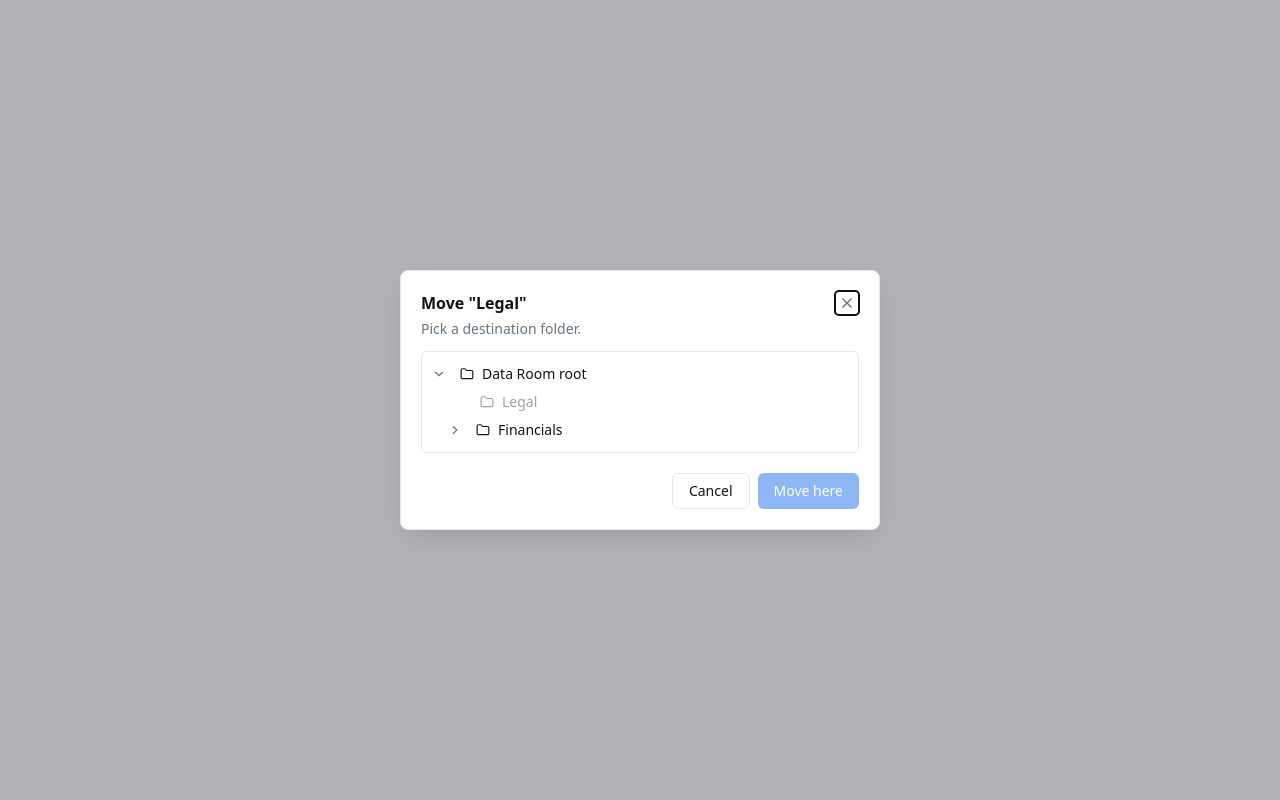
MoveDialog › reads a move cycle as a sentence, not a code
Click the button "Financials": (530, 430) [468,416,850,444]
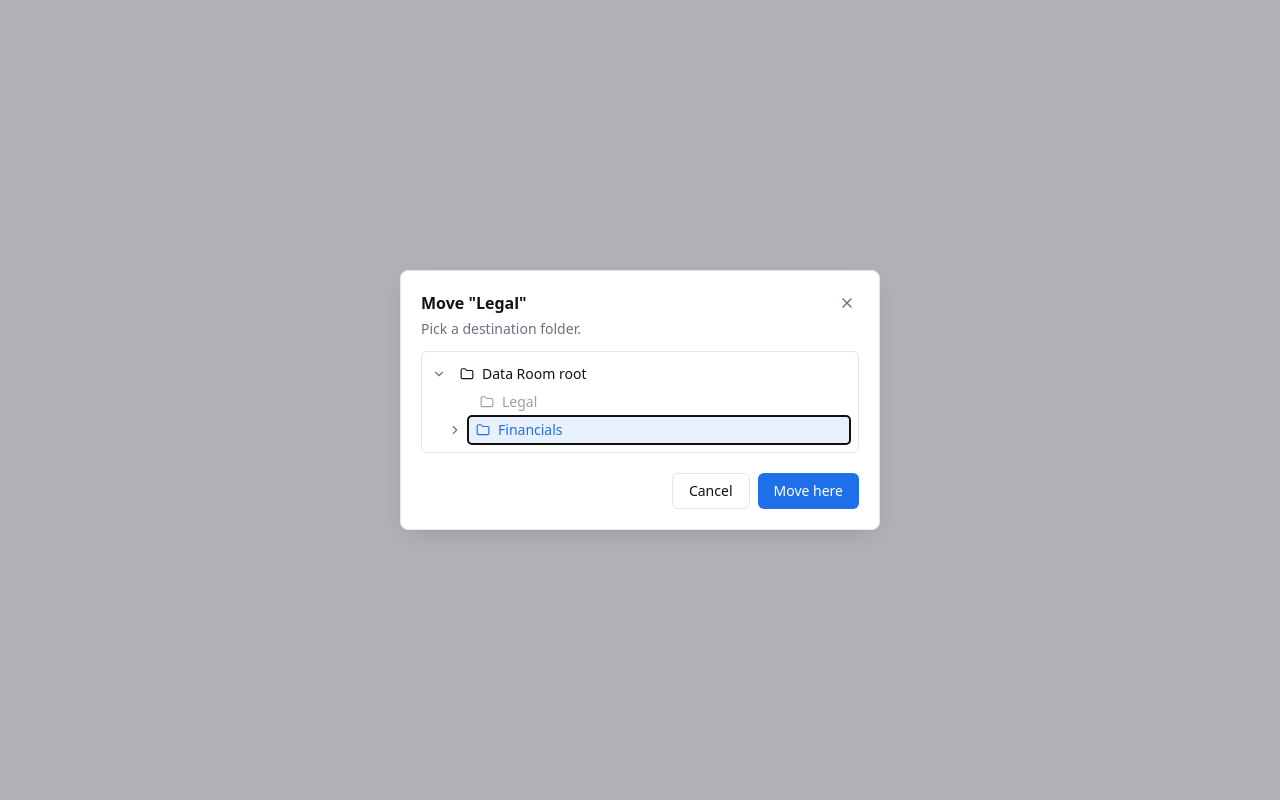
Click the button "Move here": (808, 491) [758,473,859,509]
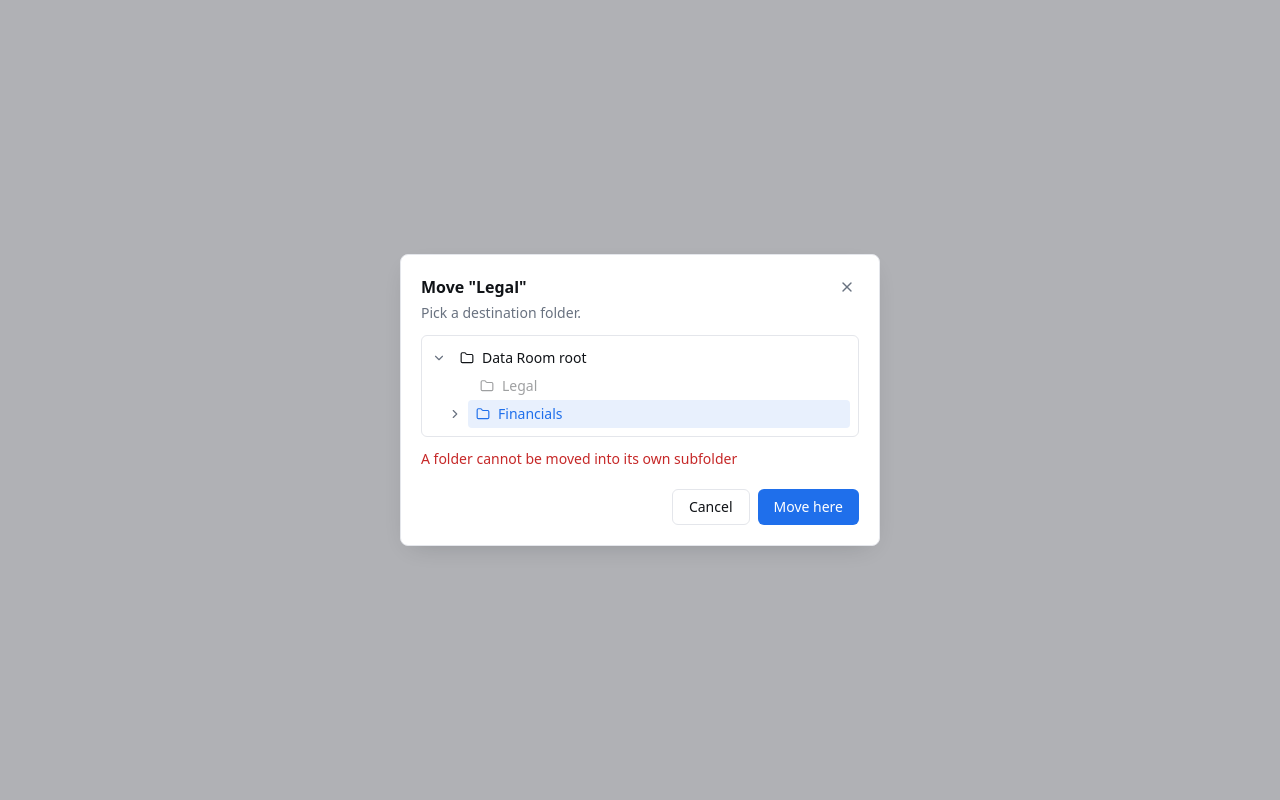
Expected: the message shows "own subfolder", [421,449,737,468]
